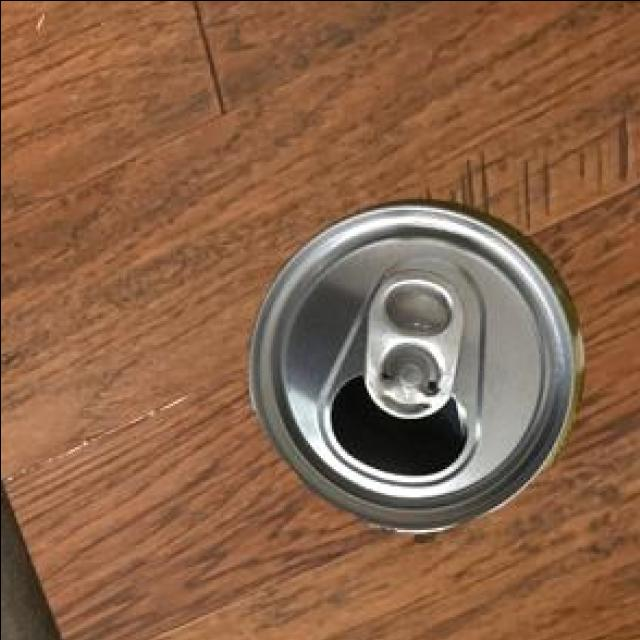logam: (245, 201, 580, 534)
